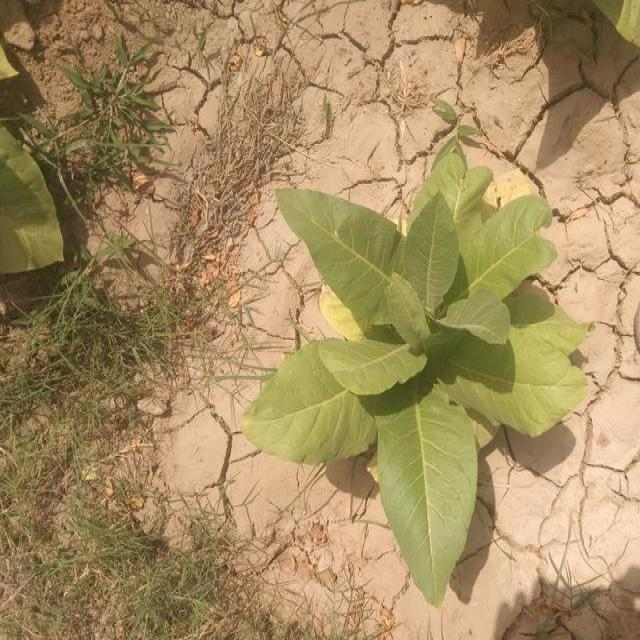crop: (267, 154, 586, 591)
